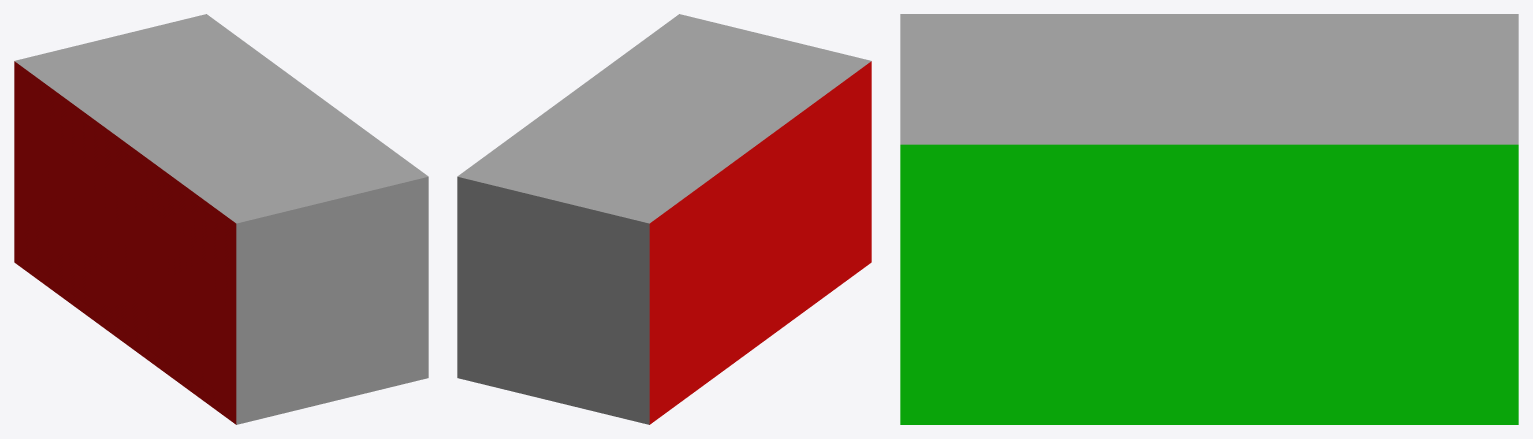
3 views of the same model, side by side, from view 1: azimuth 30°, elevation 25°; view 2: azimuth 150°, elevation 25°; view 3: azimuth 270°, elevation 25° (orthographic). The views are drawn at different scales.
Parts seen in each view (by area): view 1: room, wall; view 2: room, mirror; view 3: room.
Boxes of the visible parts, x1,y1,x2,y2 form: room: (14,14,428,424); wall: (236,176,428,424); room: (457,14,871,424); mirror: (457,176,649,424); room: (900,14,1518,424).
Bounding box in the file's own units: 4 × 4 × 8.
